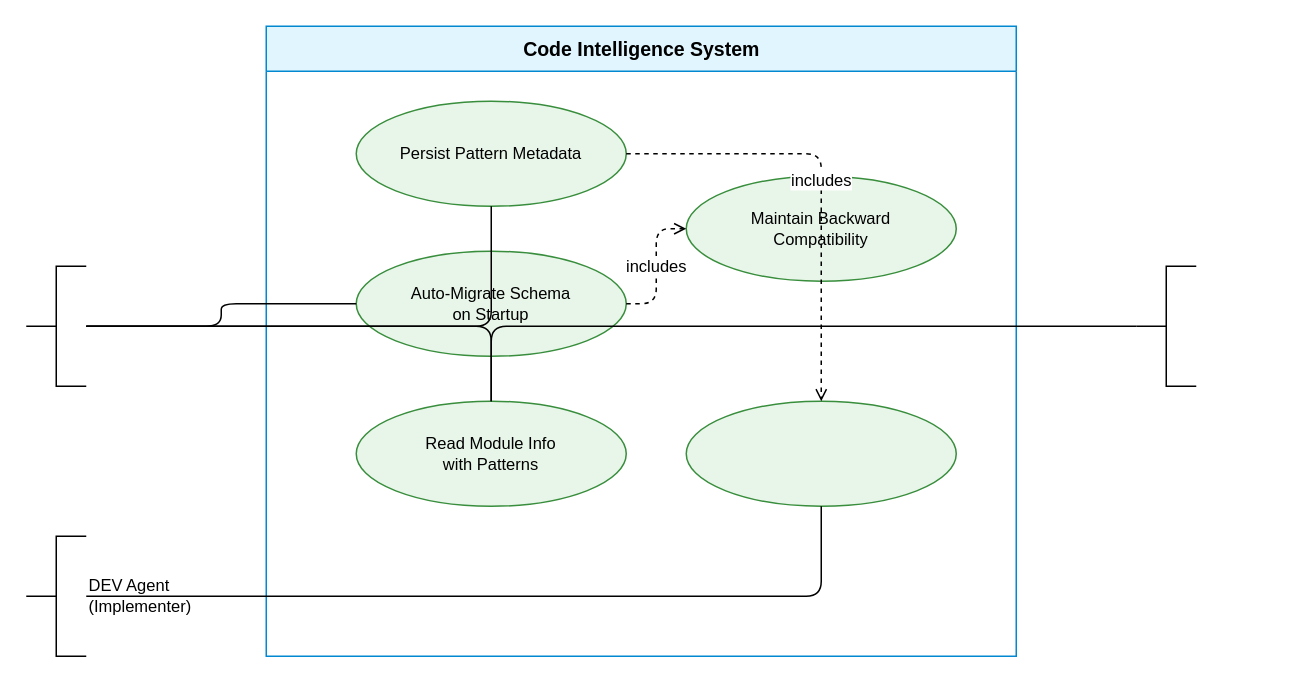
Some shapes in this 1313 by 683 pixel diagram are drawn without their labels. Here are the shapes that lost their labels. From the top down, the box of each, then its label:
(25, 265, 86, 386): MCP Server (6 variants)
(1135, 265, 1196, 386): AI Agent (Consumer)
(685, 400, 956, 506): Cross-Variant Schema Consistency
